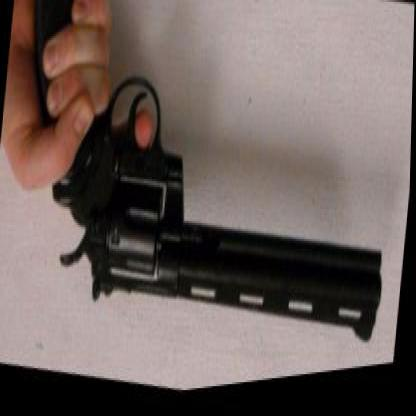pistol: (6, 0, 411, 398)
